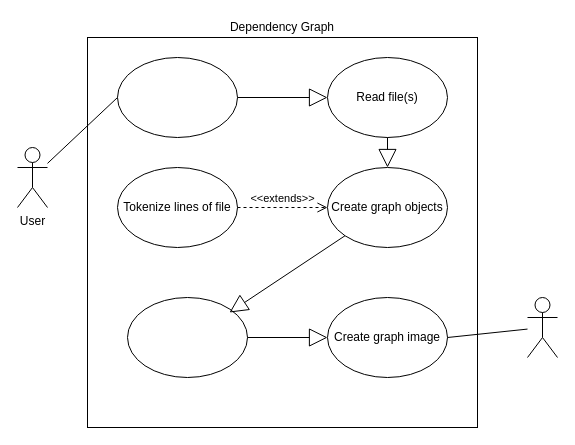
The diagram is 575 pixels wide and 445 high, and some of its shapes have lost their labels. The shapes that lost their labels are listed below. From the top down, each one's centre as x and y in pixels, then its label:
At (x=177, y=97): "Process file path/directory".
At (x=187, y=337): "Write file".
At (x=542, y=327): "Dot".
